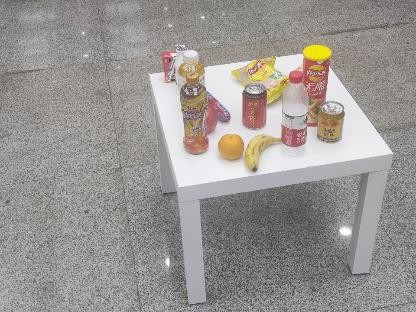Can: (314, 102, 348, 142), (242, 82, 269, 130)
Others: (302, 44, 332, 128), (156, 49, 180, 83)
Plastic Bottle: (272, 68, 312, 158), (181, 71, 209, 155)
